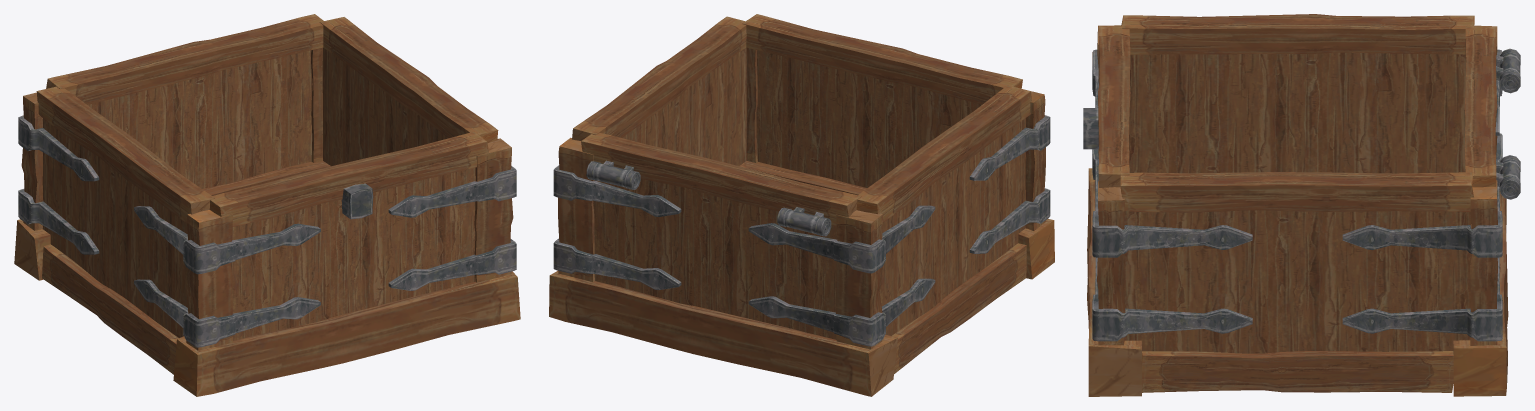
The model's file is SM_Farm_Chest_Open_Bottom.fbx.
3 views of the same model, side by side, from view 1: azimuth 30°, elevation 25°; view 2: azimuth 150°, elevation 25°; view 3: azimuth 270°, elevation 25° (orthographic). The views are drawn at different scales.
Parts seen in each view (by area): view 1: SM_Farm_Chest_Open_Bottom_LOD0; view 2: SM_Farm_Chest_Open_Bottom_LOD0; view 3: SM_Farm_Chest_Open_Bottom_LOD0.
Part boxes in pixels (x1=…): SM_Farm_Chest_Open_Bottom_LOD0: x1=14, y1=14, x2=520, y2=396; SM_Farm_Chest_Open_Bottom_LOD0: x1=549, y1=14, x2=1054, y2=396; SM_Farm_Chest_Open_Bottom_LOD0: x1=1083, y1=14, x2=1520, y2=396.
Size of what is drawn, in the model's own units: 80.38 by 42.88 by 81.22.
